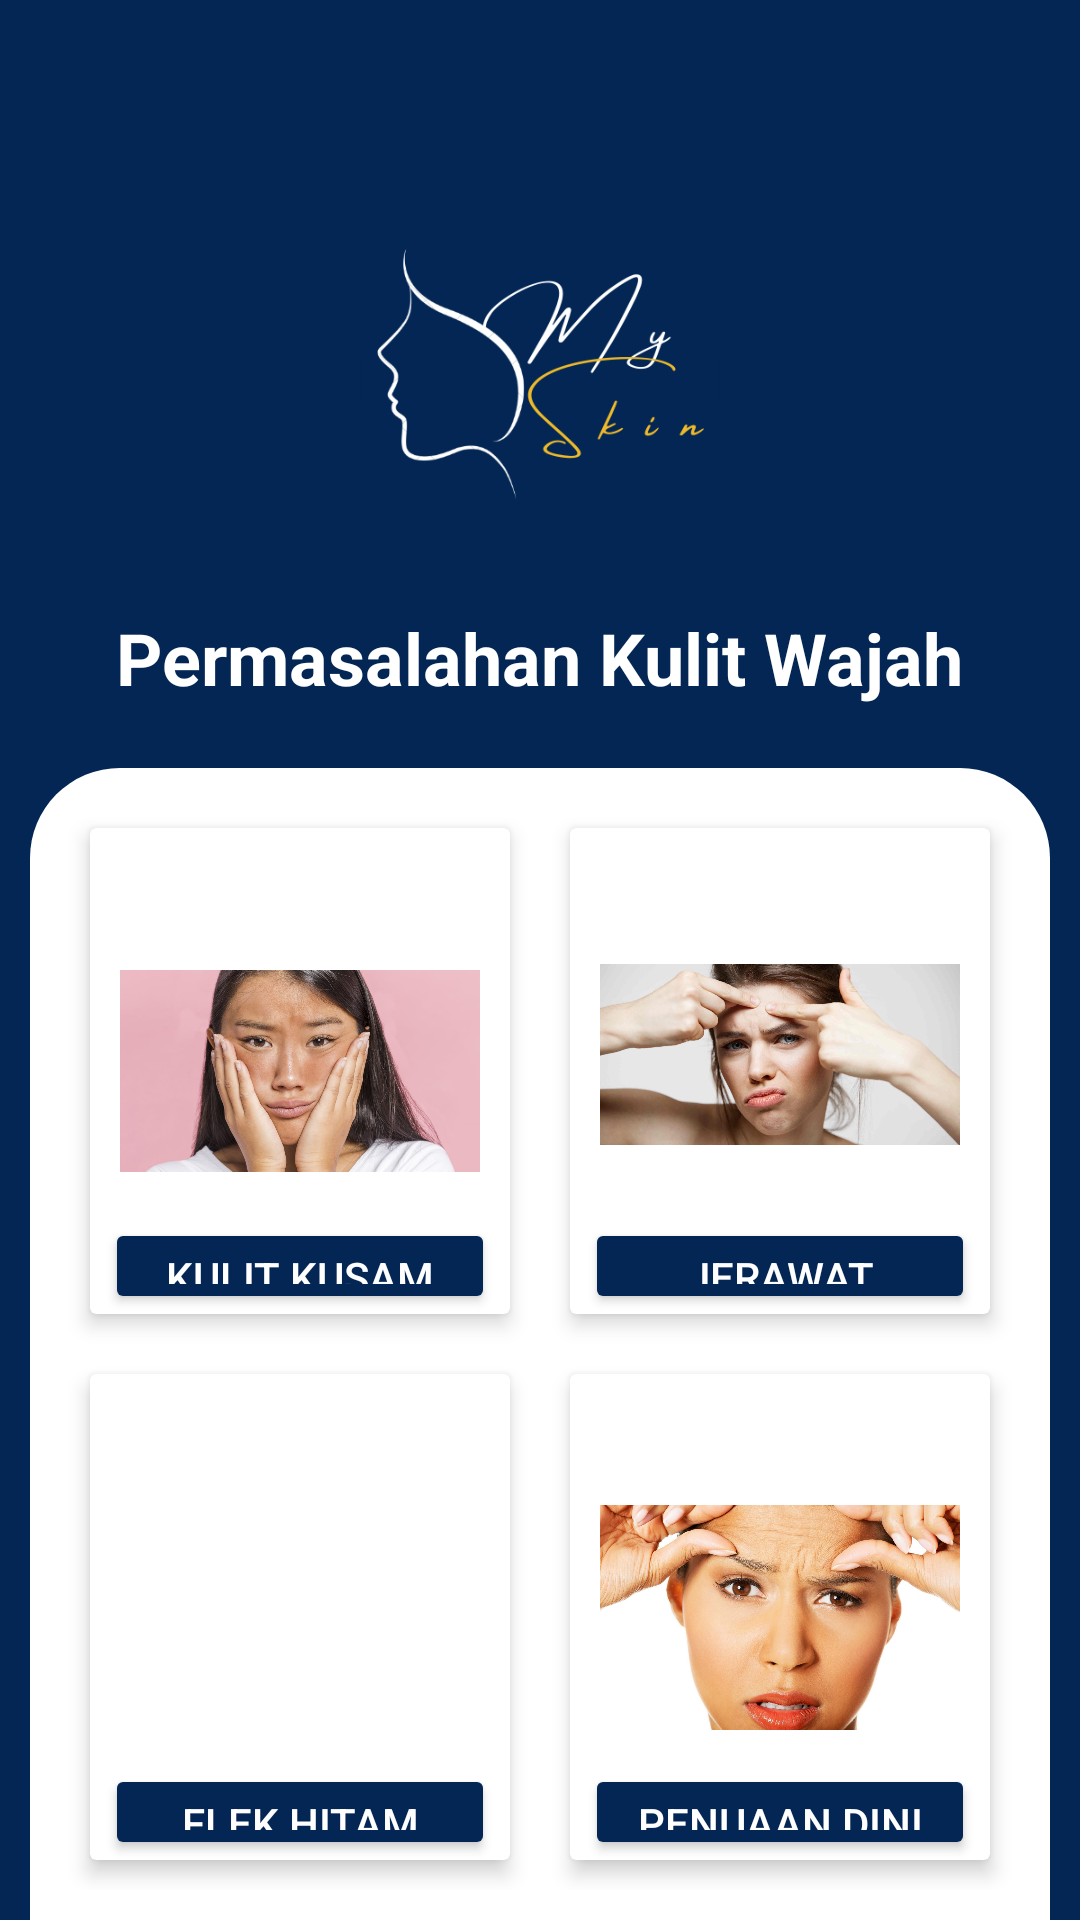

Icon bounding boxes for this 1080w x 1920h phone screenshot, format (x1=x1, y1=y1, x2=x2, y2=y2):
keriput: (x1=600, y1=1505, x2=960, y2=1828)
